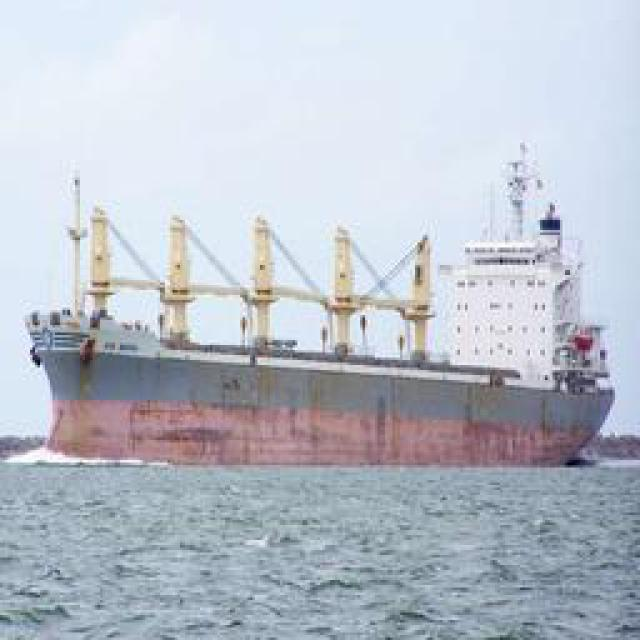Ship: (24, 139, 619, 469)
